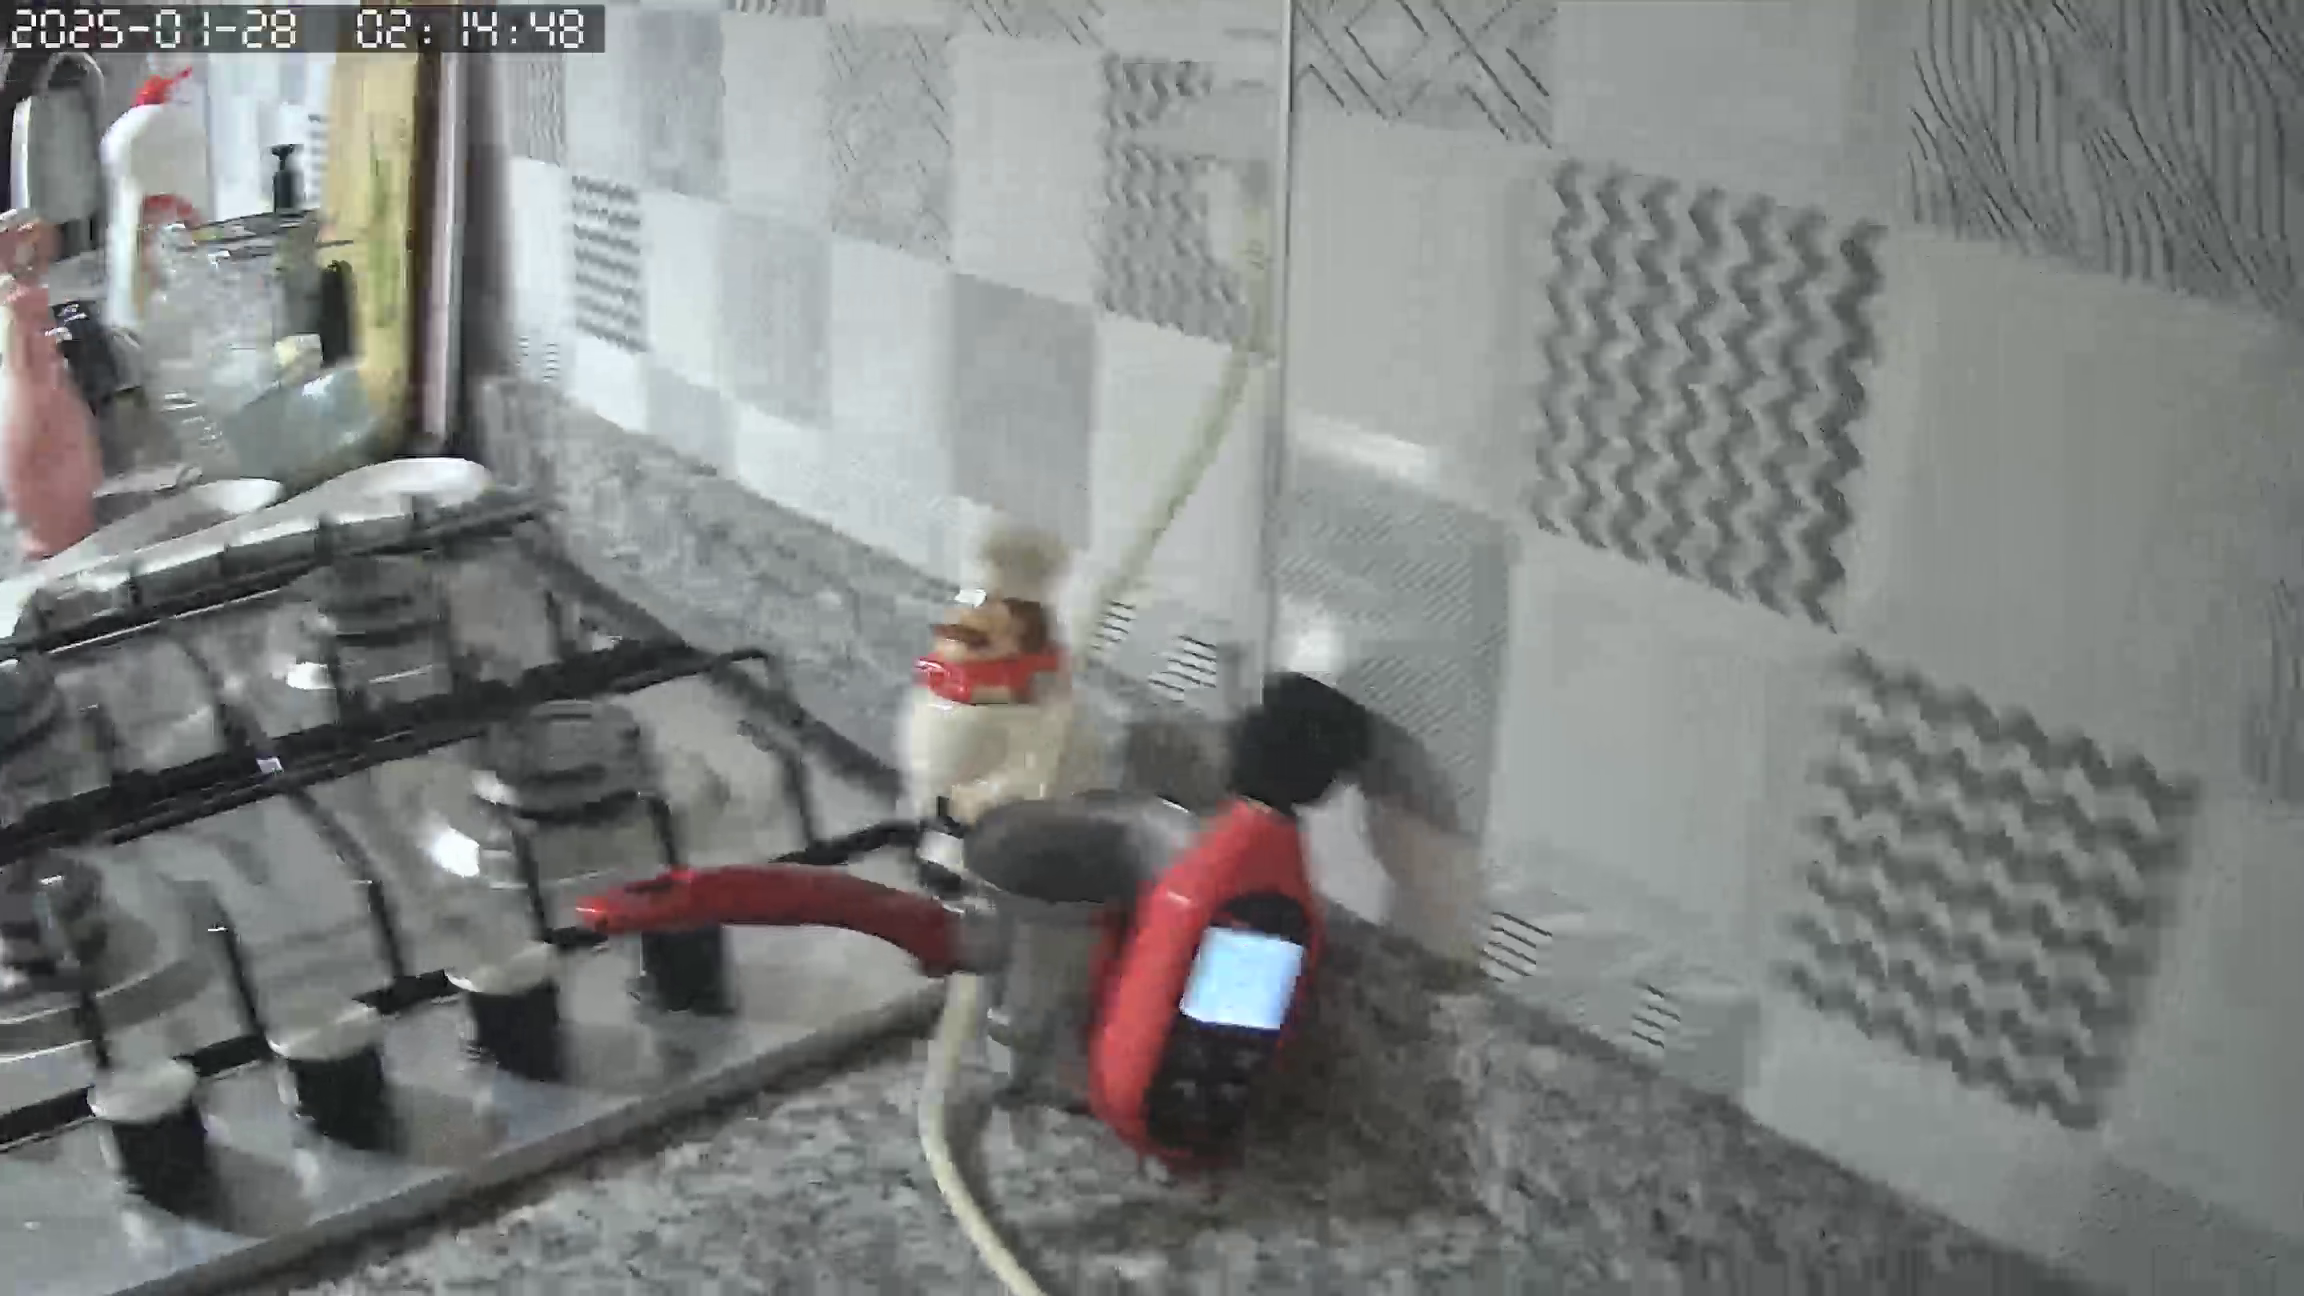screen: (1180, 926, 1305, 1033)
